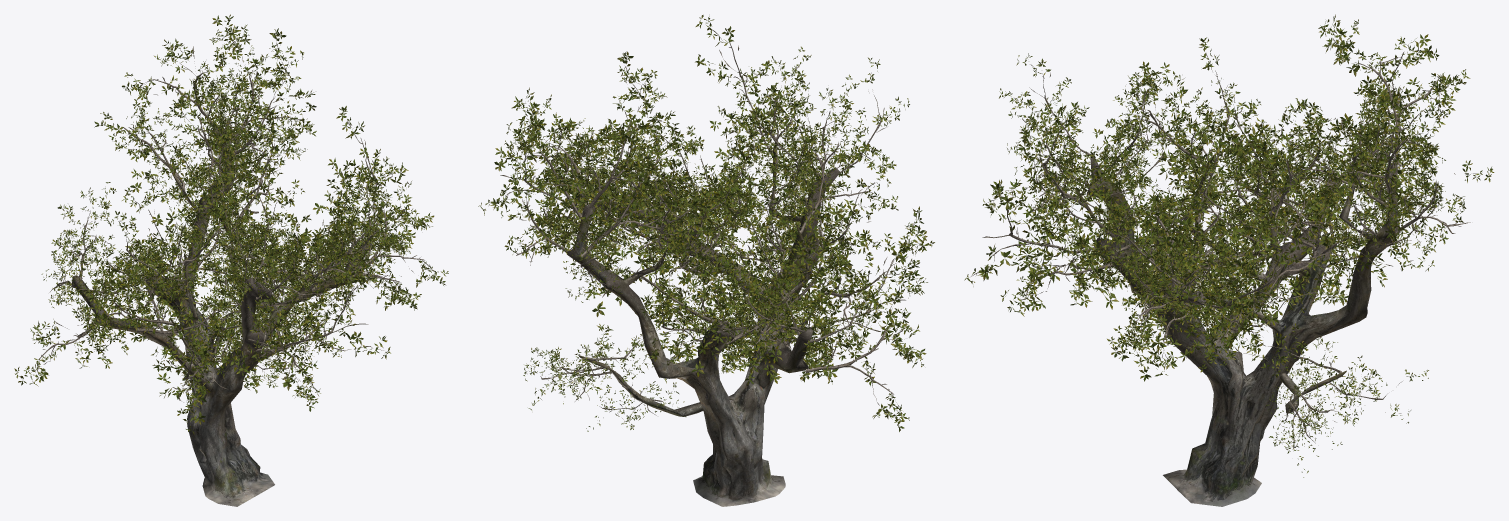
File: island_tree_01_web.glb
3 views of the same model, side by side, from view 1: azimuth 30°, elevation 25°; view 2: azimuth 150°, elevation 25°; view 3: azimuth 270°, elevation 25° (orthographic). The views are drawn at different scales.
Parts seen in each view (by area): view 1: island_tree_01_LOD0; view 2: island_tree_01_LOD0; view 3: island_tree_01_LOD0.
Part boxes in pixels (x1,y1,x2,y2): island_tree_01_LOD0: [14, 14, 448, 506]; island_tree_01_LOD0: [478, 15, 934, 506]; island_tree_01_LOD0: [964, 14, 1494, 506].
Size of the model in its own units: 4.76 by 5.02 by 4.82.
3 materials, 3 textured.
